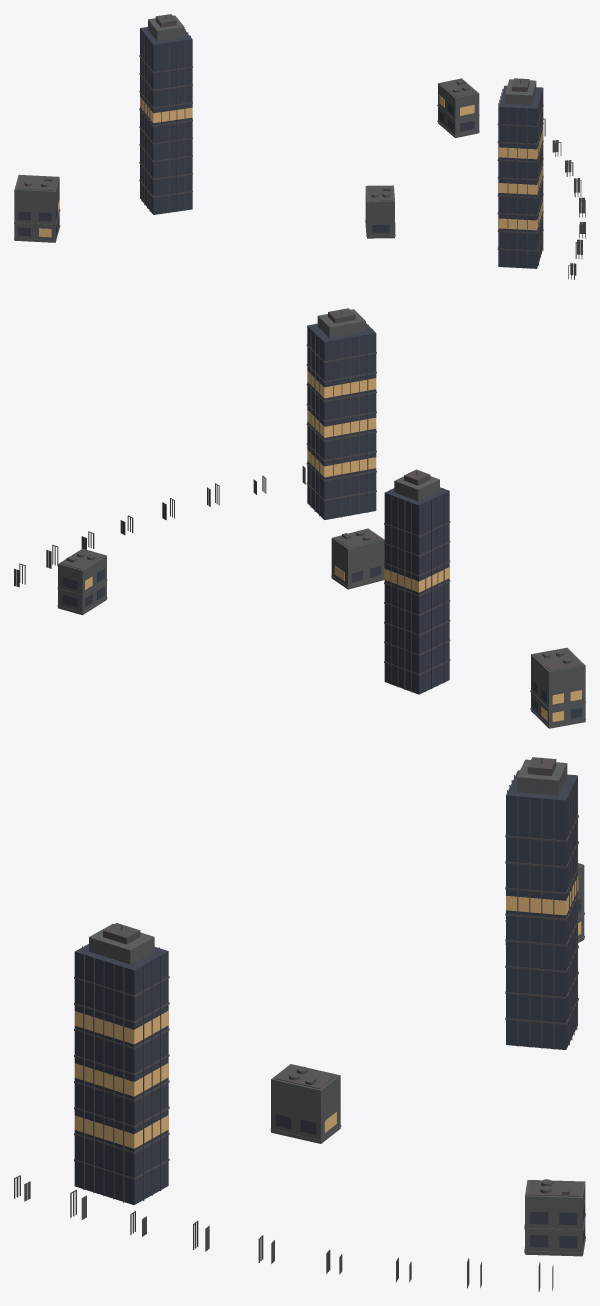
Rendered from SM_City_AbrajAlMalih_7.fbx.
3 renders of one model, top to bottom at view 1: azimuth 30°, elevation 25°; view 2: azimuth 150°, elevation 25°; view 3: azimuth 270°, elevation 25°, orthographic. The views are drawn at different scales.
Visible parts, largest first — view 1: SM_City_AbrajAlMalih_7; view 2: SM_City_AbrajAlMalih_7; view 3: SM_City_AbrajAlMalih_7.
Part boxes in pixels (x1=…): SM_City_AbrajAlMalih_7: x1=14, y1=14, x2=585, y2=279; SM_City_AbrajAlMalih_7: x1=14, y1=308, x2=585, y2=728; SM_City_AbrajAlMalih_7: x1=14, y1=757, x2=585, y2=1291.
Bounding box in the file's own units: 10832 × 3830 × 7156.
6 materials, 6 textured.
